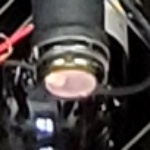bottle: (25, 35, 124, 112)
